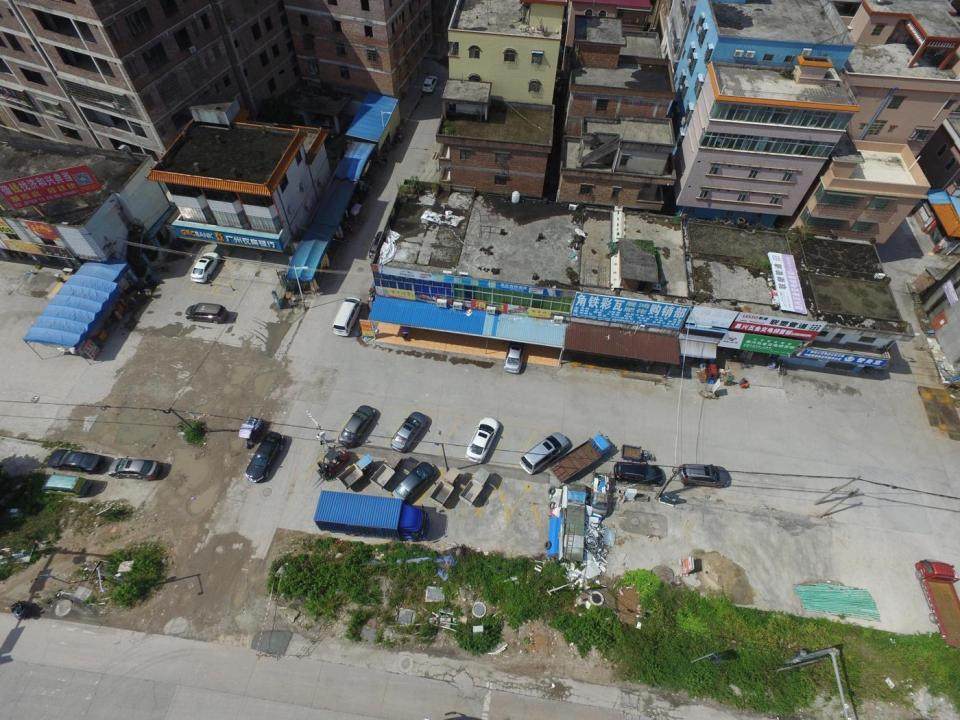car: (521, 432, 569, 472), (245, 432, 282, 483), (466, 418, 499, 464), (49, 448, 104, 475), (340, 404, 375, 446), (390, 412, 427, 451), (615, 461, 665, 487), (679, 465, 729, 490), (108, 457, 159, 481), (192, 252, 218, 281), (505, 340, 526, 375), (370, 231, 392, 260), (321, 102, 339, 128), (423, 75, 436, 96)
truck: (313, 490, 428, 541), (913, 562, 960, 646), (551, 433, 611, 485), (335, 455, 374, 487), (460, 467, 490, 505), (431, 467, 460, 506), (371, 451, 400, 488), (591, 470, 611, 516), (238, 414, 263, 446)
van: (333, 297, 362, 336), (42, 476, 90, 498), (185, 303, 227, 324)
